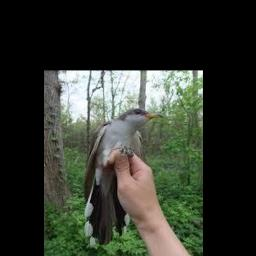Cuckoo: (84, 108, 163, 245)
